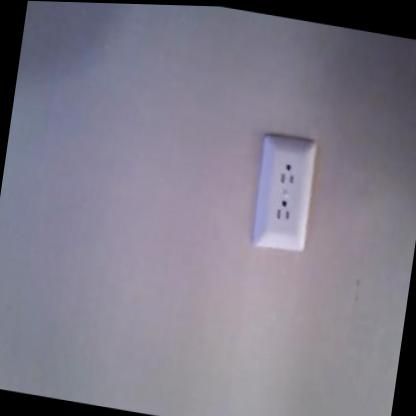OUTLET: (250, 133, 318, 252)
